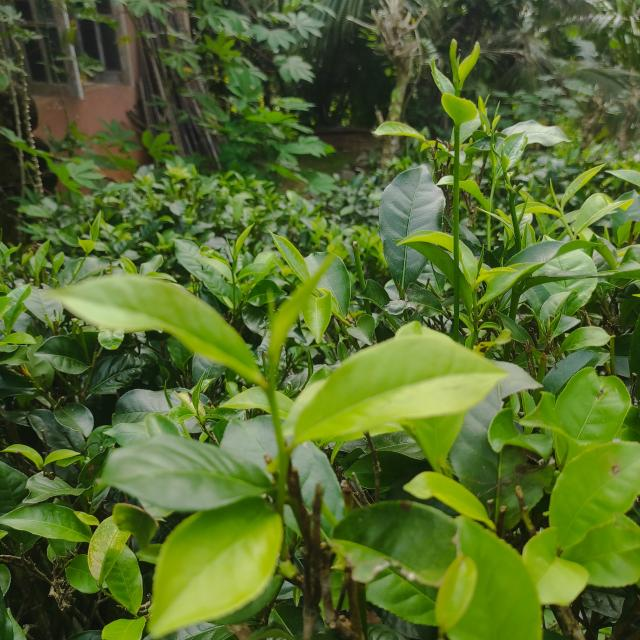unopened_leaf: (262, 239, 354, 387), (511, 194, 534, 227), (222, 231, 243, 264), (488, 96, 508, 125), (548, 176, 562, 204), (85, 215, 101, 239), (450, 51, 468, 71), (478, 91, 496, 108)
